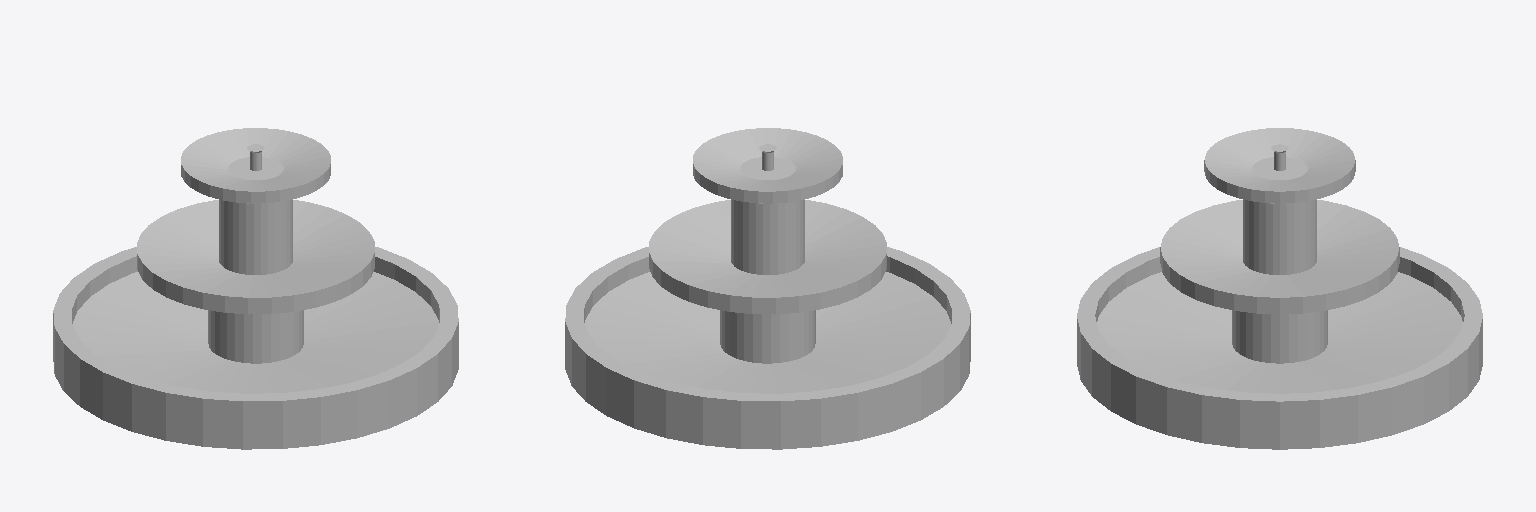
Rendered from Fountain.obj.
3 renders of one model, left to right at view 1: azimuth 30°, elevation 25°; view 2: azimuth 150°, elevation 25°; view 3: azimuth 270°, elevation 25°, orthographic.
Parts seen in each view (by area): view 1: Cylinder; view 2: Cylinder; view 3: Cylinder.
Part boxes in pixels (left/top/right/bottom): Cylinder: left=53, top=128, right=458, bottom=449; Cylinder: left=565, top=128, right=970, bottom=449; Cylinder: left=1077, top=128, right=1482, bottom=449.
Size of the model in its own units: 10.65 by 6.24 by 10.65.